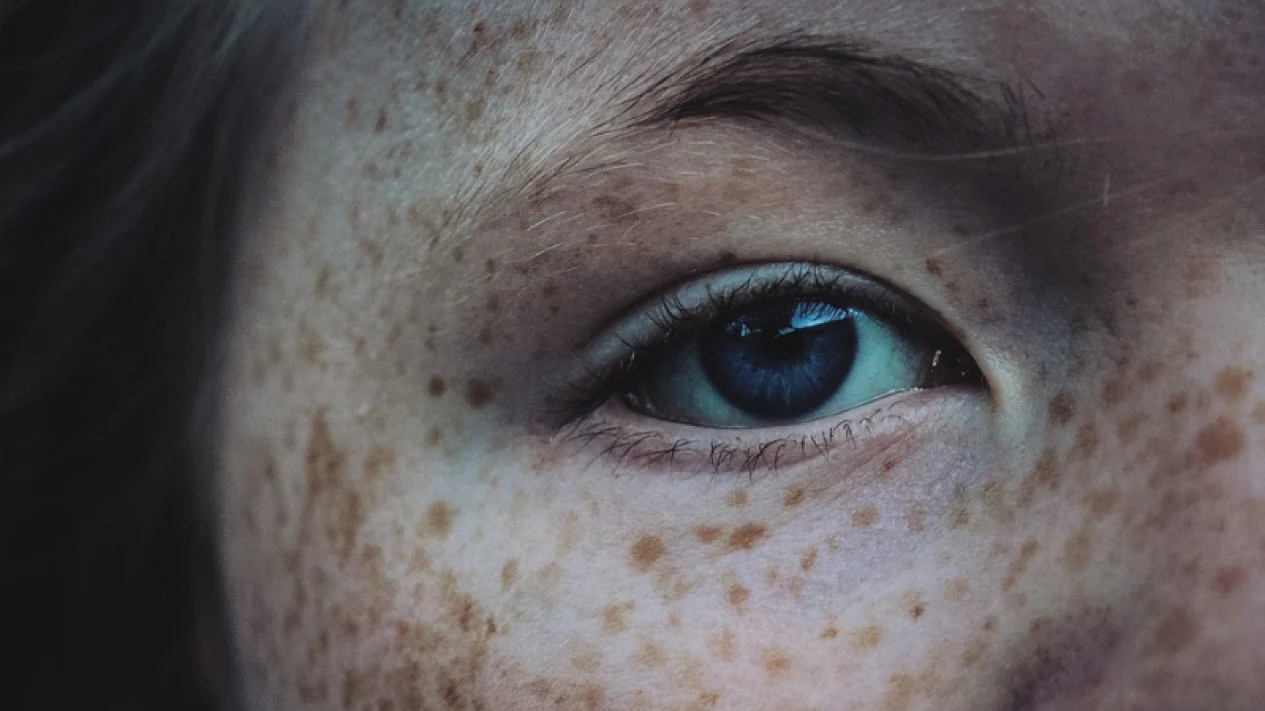Flek Hitam: (242, 19, 1265, 711)
